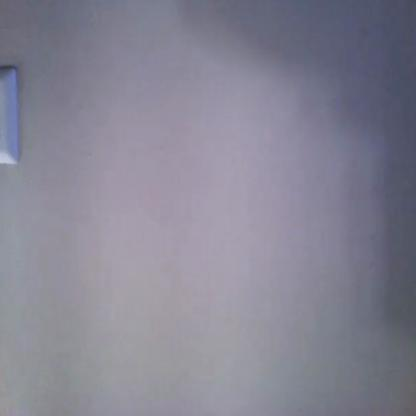OUTLET: (0, 63, 21, 166)
